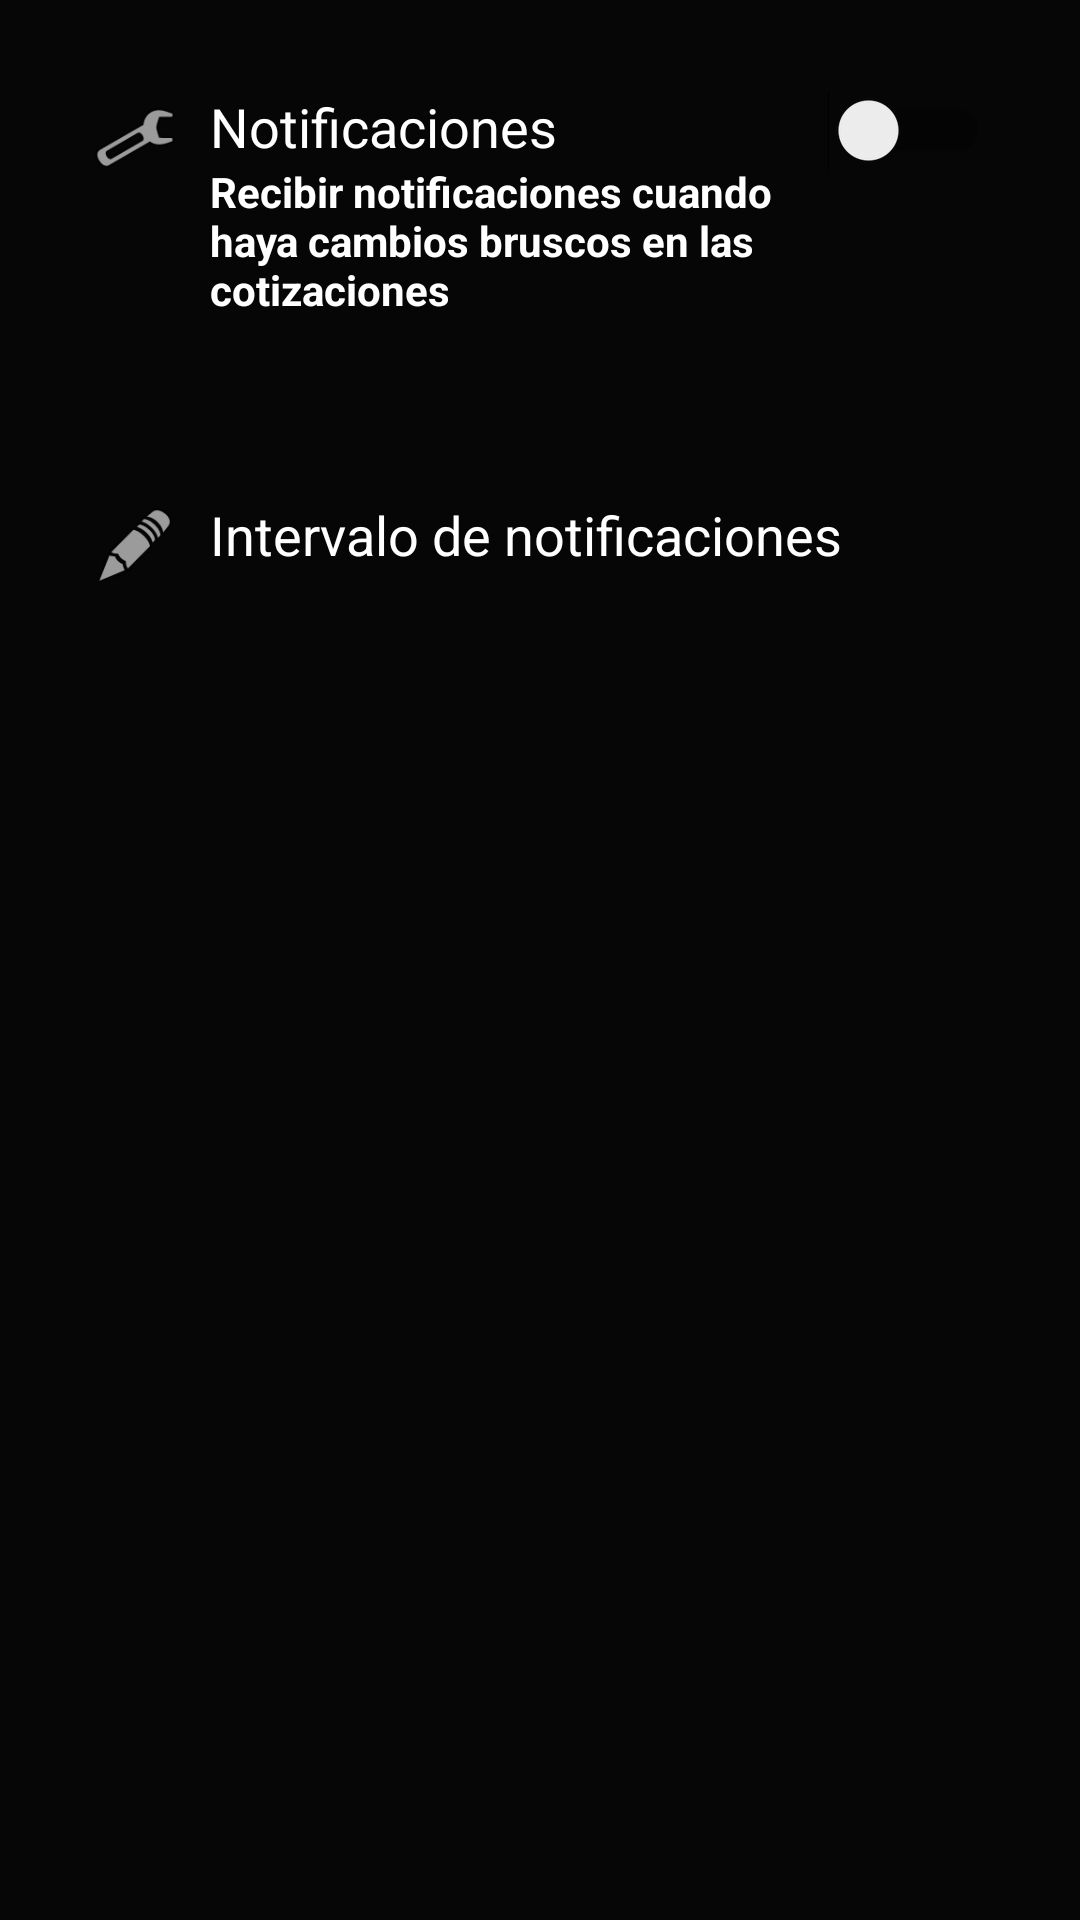

Icon click points for this 1080 x 1920 phone screenshot, format [x,y]:
edit: [134,545]
manage: [135,138]
